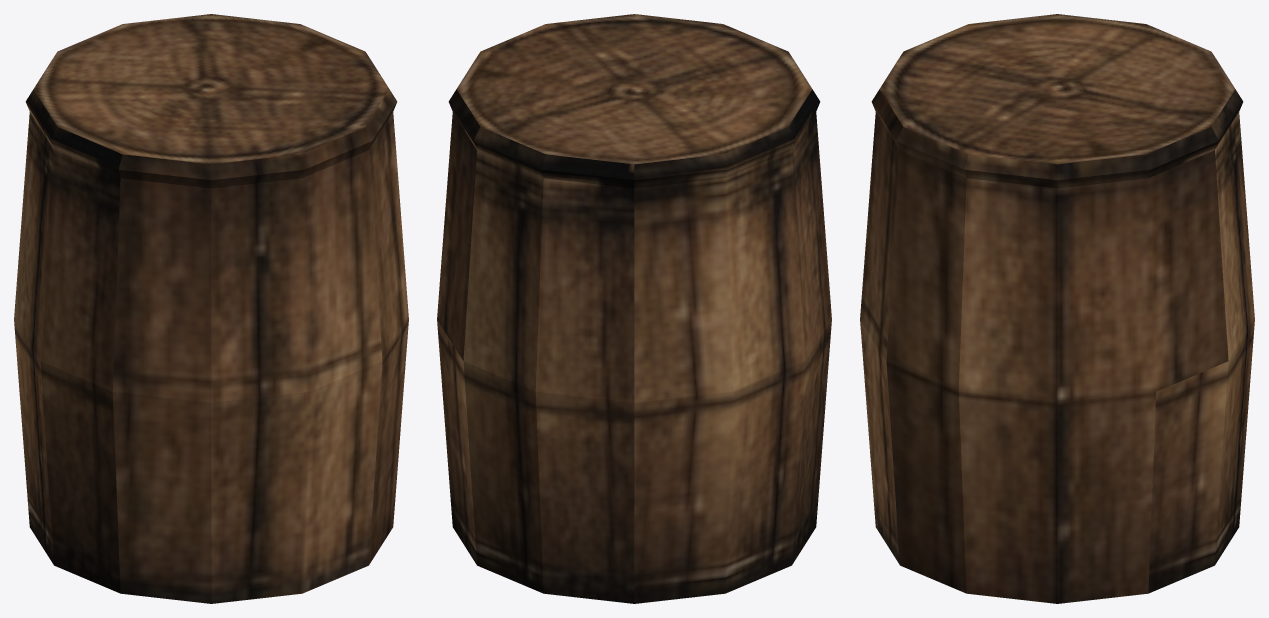
The model's file is barrel.fbx.
3 views of the same model, side by side, from view 1: azimuth 30°, elevation 25°; view 2: azimuth 150°, elevation 25°; view 3: azimuth 270°, elevation 25° (orthographic).
Parts seen in each view (by area): view 1: Cart; view 2: Cart; view 3: Cart.
Part boxes in pixels (x1,y1,x2,y2): Cart: (14,14,408,603); Cart: (437,14,831,603); Cart: (860,14,1254,603).
Bounding box in the file's own units: 107 × 131 × 107.
Materials: 1 (1 with a texture image).
